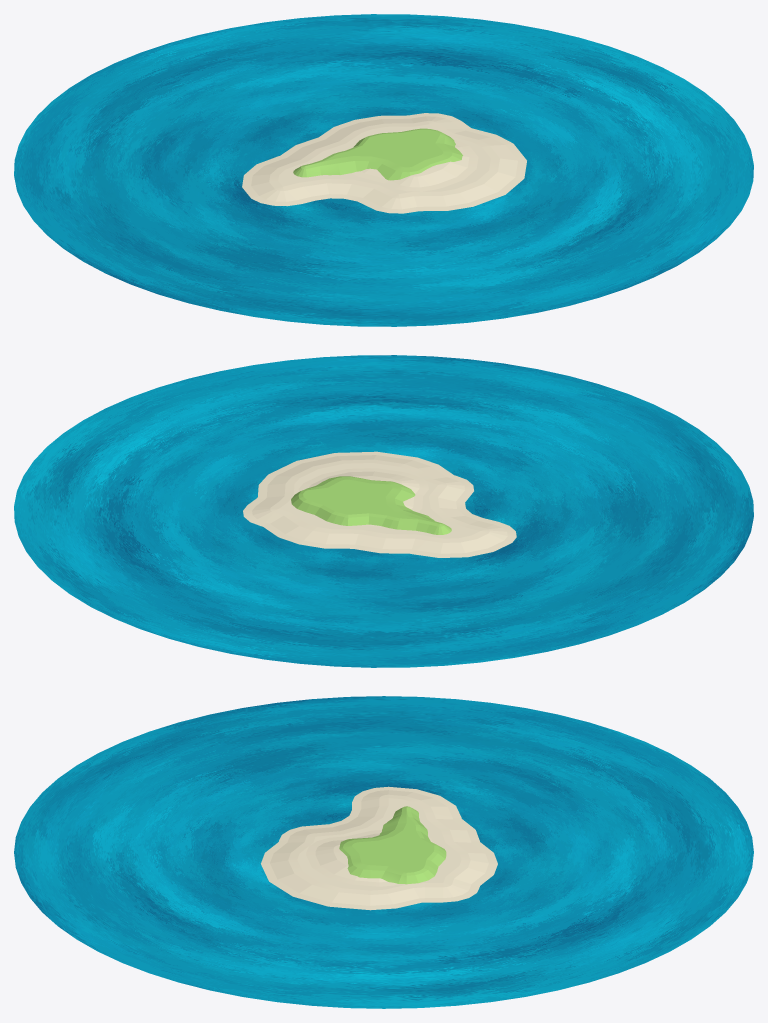
The model's file is Island.glb.
3 views of the same model, one above another, from view 1: azimuth 30°, elevation 25°; view 2: azimuth 150°, elevation 25°; view 3: azimuth 270°, elevation 25° (orthographic).
Visible parts, largest first — view 1: Water_Circle_3_Highpoly, Terrain_Sand_Incline_Esse_6x6 (×5), Terrain_Sand_Incline_Curve_Outer_12x12, Terrain_Sand_Incline_Curve_Outer_8x8 (×2), Terrain_Sand_Incline_Curve_Inner_8x8, Terrain_Sand_Incline_Curve_Outer_4x4 (×3), Grass_Flat_1x1 (×2), Grass_Hill_Gentle_Curve_Inner_4x4, Grass_Hill_Grade_Transition_Straight_Rear_3x4; view 2: Water_Circle_3_Highpoly, Terrain_Sand_Incline_Esse_6x6 (×5), Terrain_Sand_Incline_Curve_Outer_8x8 (×2), Terrain_Sand_Incline_Curve_Outer_12x12, Terrain_Sand_Incline_Curve_Inner_8x8, Grass_Flat_1x1 (×2), Grass_Hill_Sharp_Esse_4x4, Grass_Hill_Gentle_Curve_Inner_4x4; view 3: Water_Circle_3_Highpoly, Terrain_Sand_Incline_Esse_6x6 (×5), Terrain_Sand_Incline_Curve_Outer_12x12, Terrain_Sand_Incline_Curve_Outer_8x8 (×2), Terrain_Sand_Incline_Curve_Inner_8x8, Grass_Flat_1x1 (×2), Grass_Hill_Grade_Transition_Straight_Front_4x4, Terrain_Sand_Incline_Curve_Outer_4x4.
Boxes of the visible parts, <box> form: Water_Circle_3_Highpoly: <box>14,14,753,326</box>; Terrain_Sand_Incline_Esse_6x6 (×5): <box>278,115,512,211</box>; Terrain_Sand_Incline_Curve_Outer_12x12: <box>450,143,526,206</box>; Terrain_Sand_Incline_Curve_Outer_8x8 (×2): <box>242,146,478,198</box>; Terrain_Sand_Incline_Curve_Inner_8x8: <box>299,173,397,205</box>; Terrain_Sand_Incline_Curve_Outer_4x4 (×3): <box>251,174,434,213</box>; Grass_Flat_1x1 (×2): <box>356,132,438,165</box>; Grass_Hill_Gentle_Curve_Inner_4x4: <box>337,152,398,174</box>; Grass_Hill_Grade_Transition_Straight_Rear_3x4: <box>305,158,348,176</box>; Water_Circle_3_Highpoly: <box>14,355,753,667</box>; Terrain_Sand_Incline_Esse_6x6 (×5): <box>257,457,455,554</box>; Terrain_Sand_Incline_Curve_Outer_8x8 (×2): <box>304,468,511,557</box>; Terrain_Sand_Incline_Curve_Outer_12x12: <box>268,451,417,480</box>; Terrain_Sand_Incline_Curve_Inner_8x8: <box>418,485,482,526</box>; Grass_Flat_1x1 (×2): <box>309,480,390,513</box>; Grass_Hill_Sharp_Esse_4x4: <box>341,510,387,525</box>; Grass_Hill_Gentle_Curve_Inner_4x4: <box>378,490,419,515</box>; Water_Circle_3_Highpoly: <box>14,696,753,1008</box>; Terrain_Sand_Incline_Esse_6x6 (×5): <box>261,813,497,910</box>; Terrain_Sand_Incline_Curve_Outer_12x12: <box>261,859,370,909</box>; Terrain_Sand_Incline_Curve_Outer_8x8 (×2): <box>306,787,461,886</box>; Terrain_Sand_Incline_Curve_Inner_8x8: <box>315,805,388,836</box>; Grass_Flat_1x1 (×2): <box>361,834,415,868</box>; Grass_Hill_Grade_Transition_Straight_Front_4x4: <box>370,865,406,884</box>; Terrain_Sand_Incline_Curve_Outer_4x4: <box>443,883,479,902</box>.
Size of the model in its own units: 8106 by 150 by 8106.
Materials: 9 (1 with a texture image).
